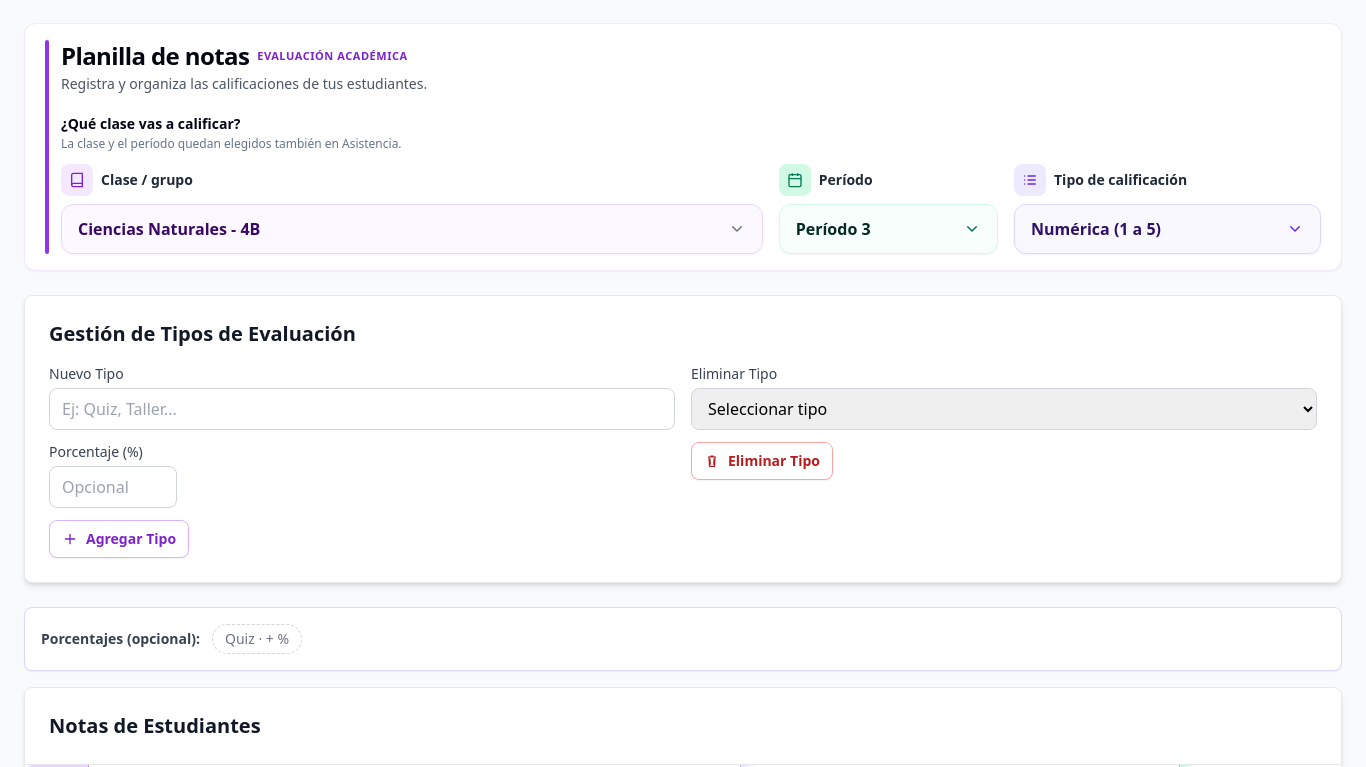
Scenario: clase y período elegidos en la planilla › al cambiar el período carga ese período y lo recuerda
The image size is (1366, 767).
Expected: the dropdown showing "Ciencias Naturales - 4B" is shown, x1=61 y1=204 x2=763 y2=254
Select "Período 4" in the dropdown labelled "Período": (888, 229) x1=779 y1=204 x2=998 y2=254
(page scrolled)
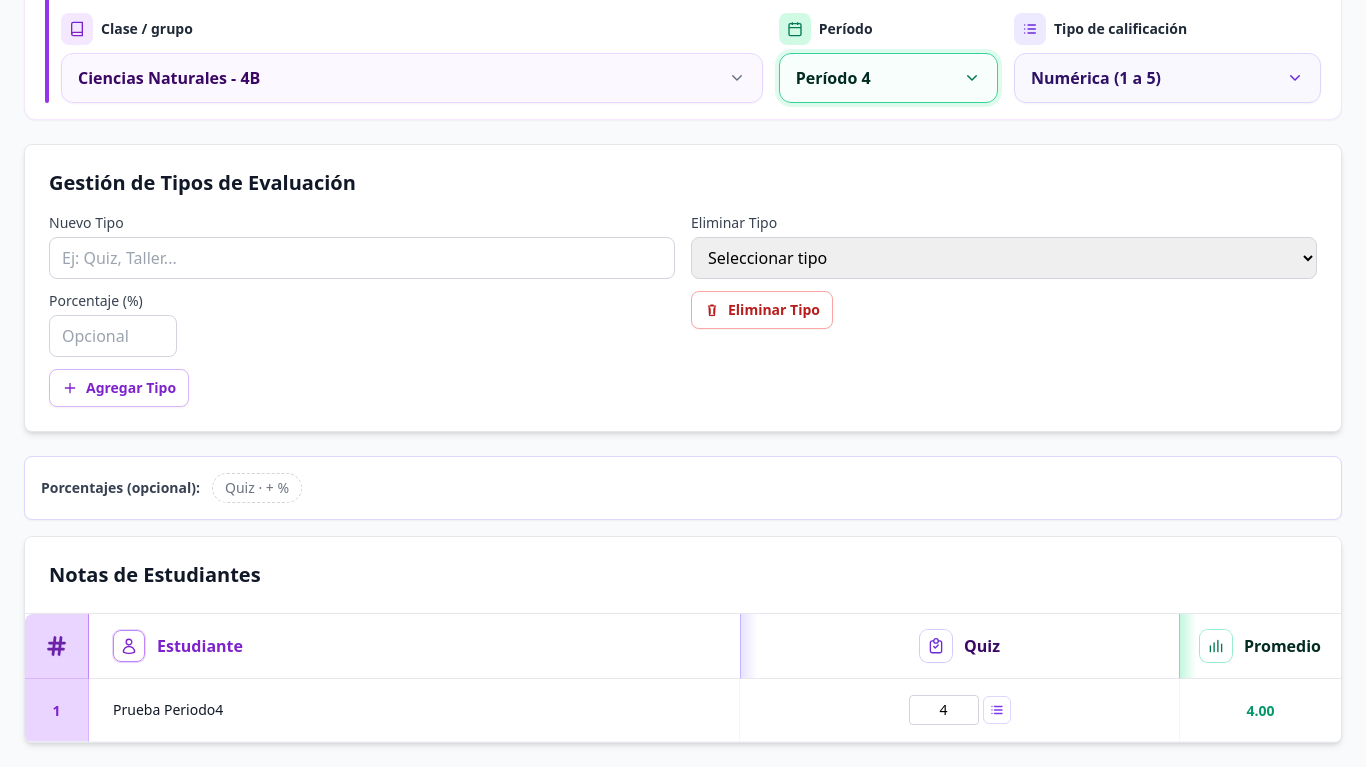
Expected: the text "Prueba Periodo4" is shown, x1=113 y1=700 x2=223 y2=719
